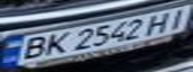2: (124, 16, 151, 42), (72, 25, 96, 52)
4: (109, 19, 133, 44)
5: (93, 21, 115, 48)
B: (9, 34, 54, 62)
H: (139, 10, 178, 36)
I: (160, 7, 193, 30)
K: (36, 30, 72, 56)
